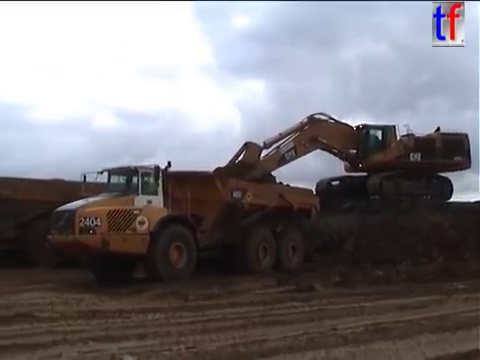excavator: (194, 110, 474, 225)
truck: (43, 158, 323, 284), (1, 172, 176, 270)
